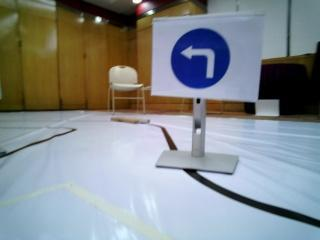left: (157, 25, 256, 97)
